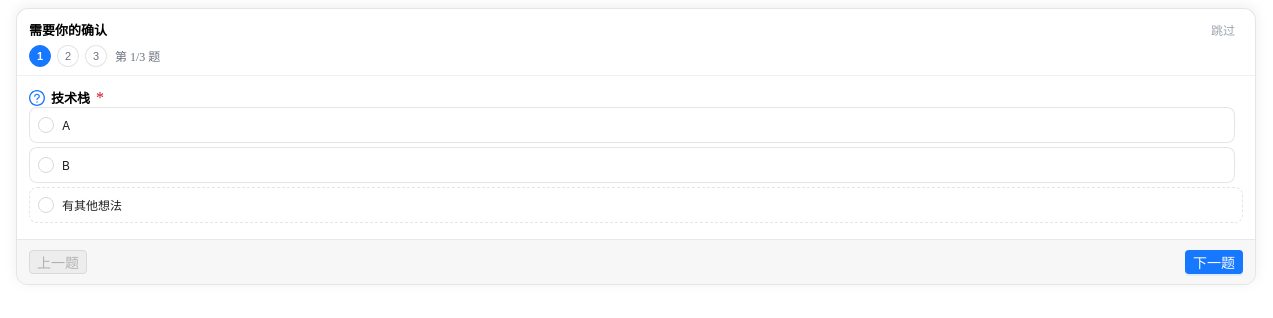
Test: ElicitationWizard › 必填未答点提交：跳到第一个缺题并标红，不回传
This screenshot has width=1273, height=318.
Step 1. Click the button "3" → x=96, y=56, box [85,45,107,67]
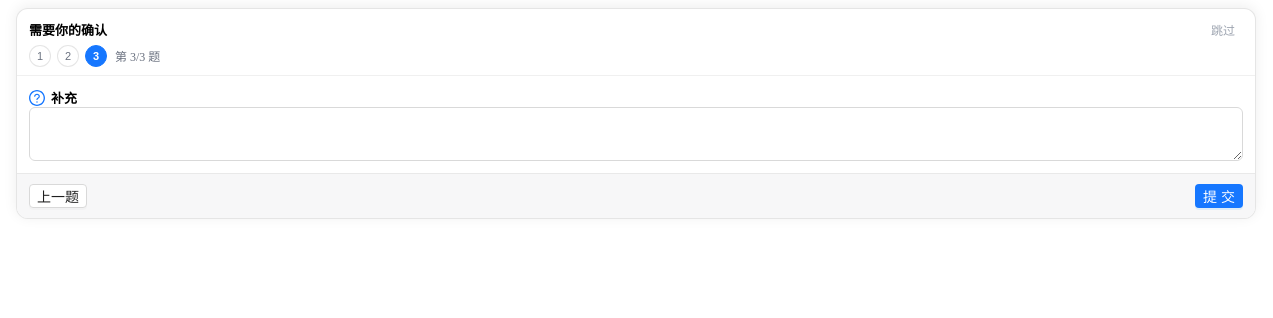
Step 2. Click the button with test id "elicitation-submit-r1" → x=1219, y=196, box [1195,184,1243,208]
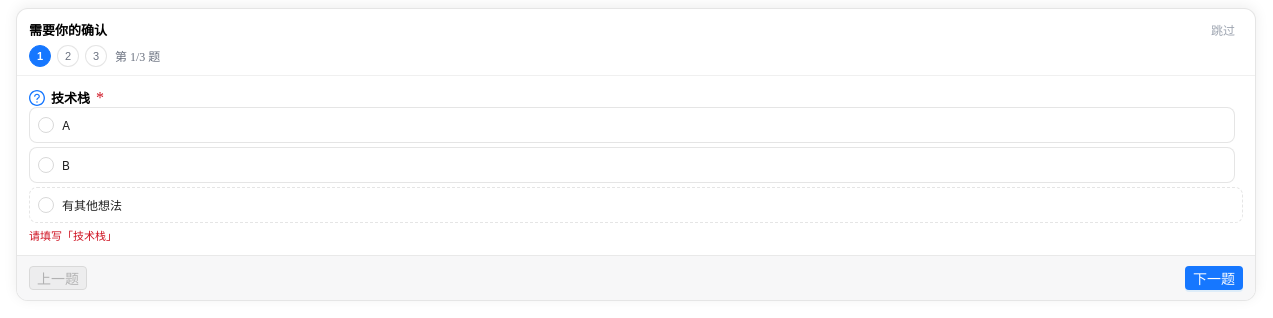
Result: the text with test id "elicitation-count-r1" reads "第 1/3 题" at [115,47,160,65]
Result: the text "请填写「技术栈」" is shown at [29,230,117,242]
